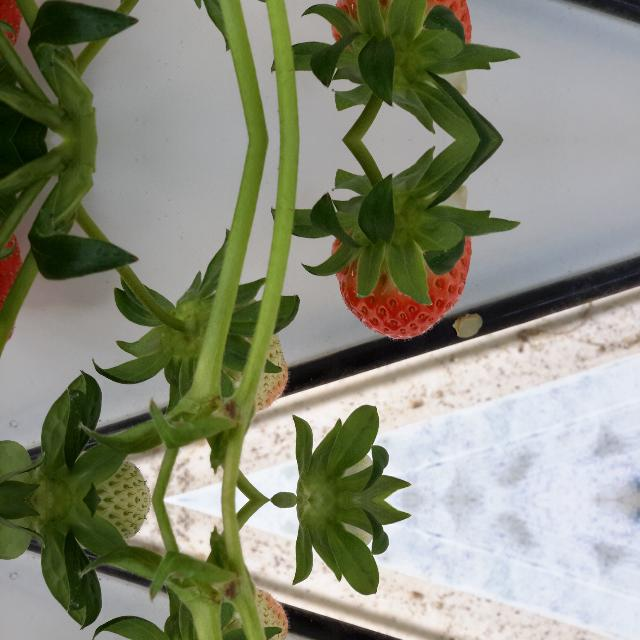Health_100: (332, 232, 472, 338), (331, 0, 472, 48)
Health_50: (172, 280, 288, 414), (172, 585, 288, 640)
